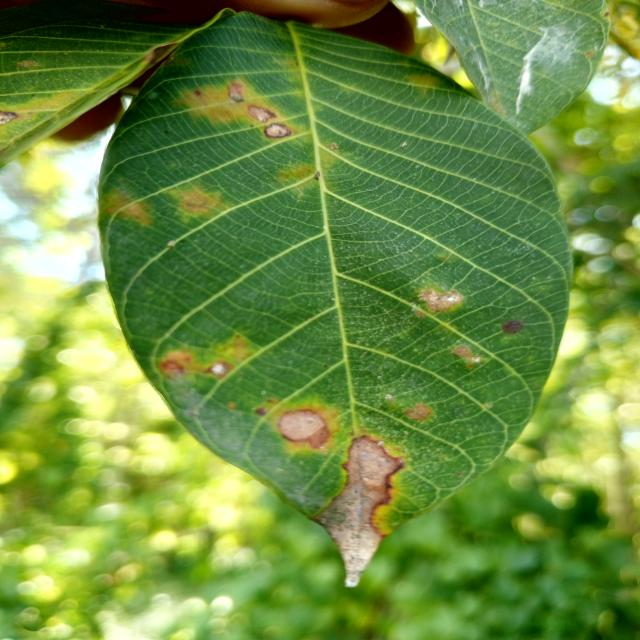Leaf-Blight: (311, 436, 401, 588), (278, 408, 330, 449)
